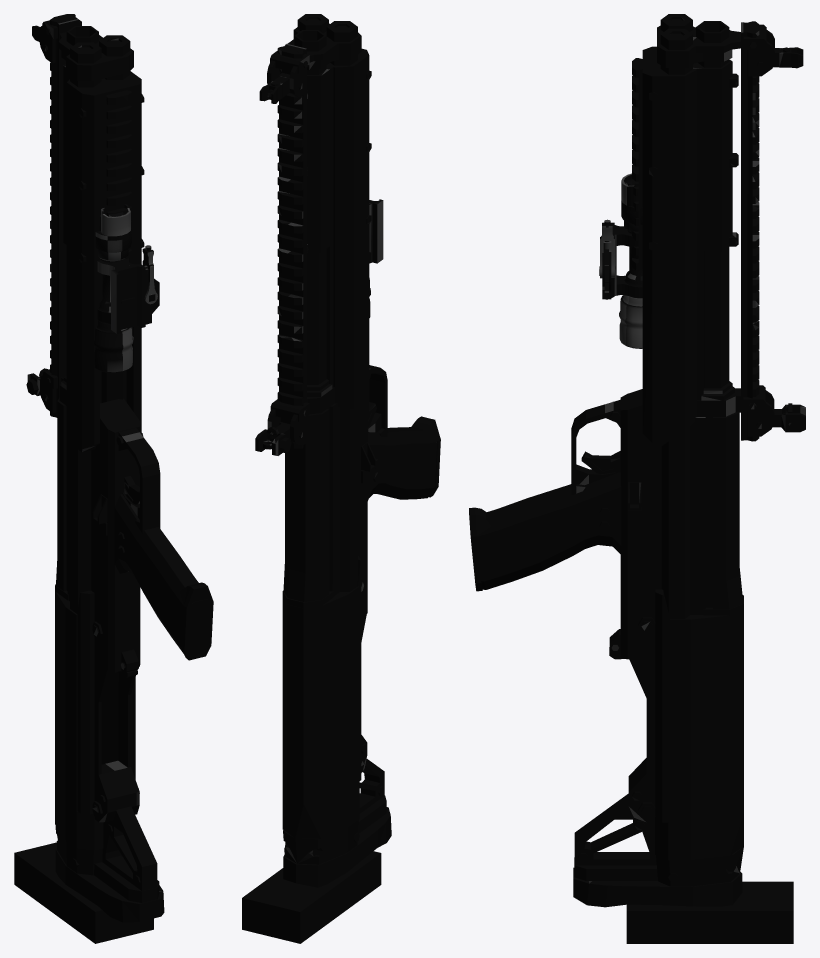
File: KSG__Light_Weapon__RecoilPad_Rubber.fbx
3 views of the same model, side by side, from view 1: azimuth 30°, elevation 25°; view 2: azimuth 150°, elevation 25°; view 3: azimuth 270°, elevation 25° (orthographic). The views are drawn at different scales.
Visible parts, largest first — view 1: asset_KSG.001; view 2: asset_KSG.001; view 3: asset_KSG.001.
Part boxes in pixels (x1=…): asset_KSG.001: x1=14, y1=14, x2=213, y2=943; asset_KSG.001: x1=242, y1=14, x2=440, y2=943; asset_KSG.001: x1=469, y1=14, x2=805, y2=943.
Size of the model in its own units: 0.03 by 0.411 by 0.139.
